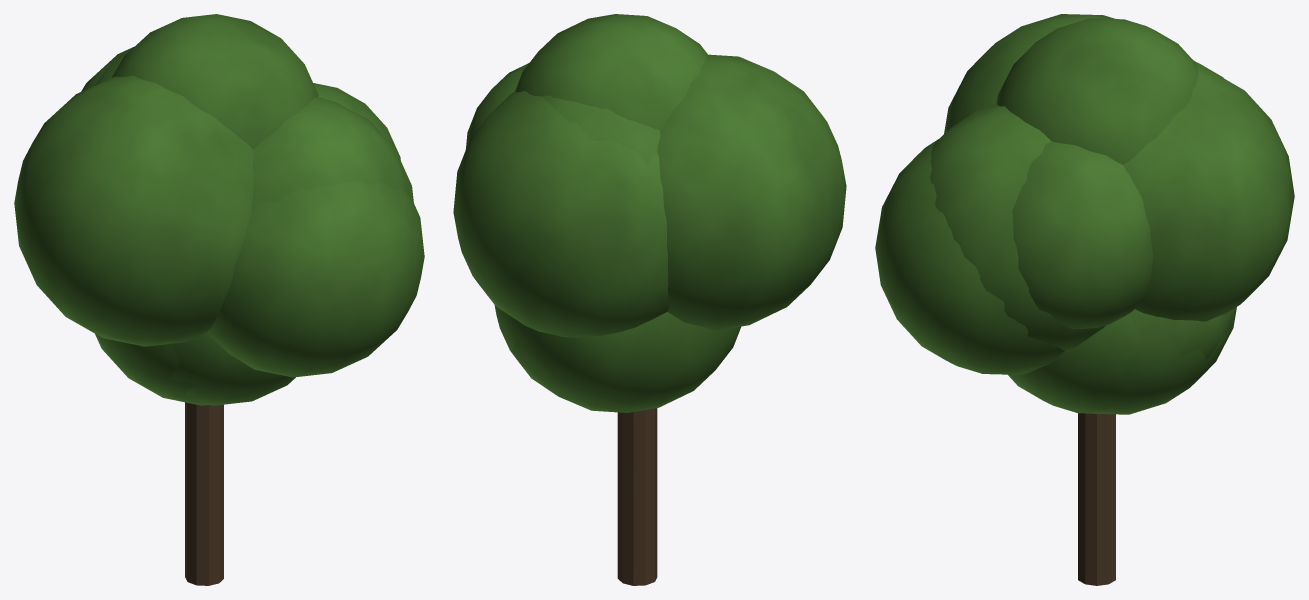
The model's file is pv_strom_listnaty.glb.
The picture shows the model from 3 angles, left to right: view 1: azimuth 30°, elevation 25°; view 2: azimuth 150°, elevation 25°; view 3: azimuth 270°, elevation 25°; orthographic projection.
Visible parts, largest first — view 1: dum; view 2: dum; view 3: dum.
Boxes of the visible parts, bbox=[...] form: dum: bbox=[14, 14, 424, 585]; dum: bbox=[453, 14, 846, 585]; dum: bbox=[875, 14, 1294, 585].
Size of the model in its own units: 0.6737 by 1 by 0.6849.
Materials: 1 (1 with a texture image).
